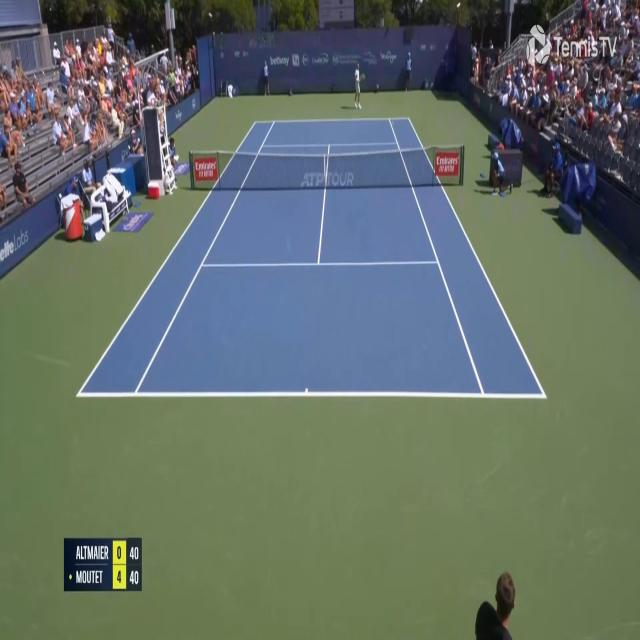tennis-player: (352, 64, 363, 109)
